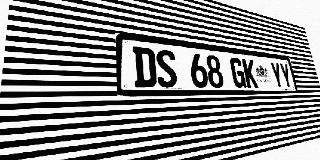6: (188, 53, 209, 88)
8: (205, 54, 224, 88)
D: (132, 46, 157, 88)
G: (229, 57, 247, 88)
K: (242, 59, 258, 88)
S: (155, 49, 178, 88)
Y: (270, 62, 284, 88), (279, 63, 293, 88)
